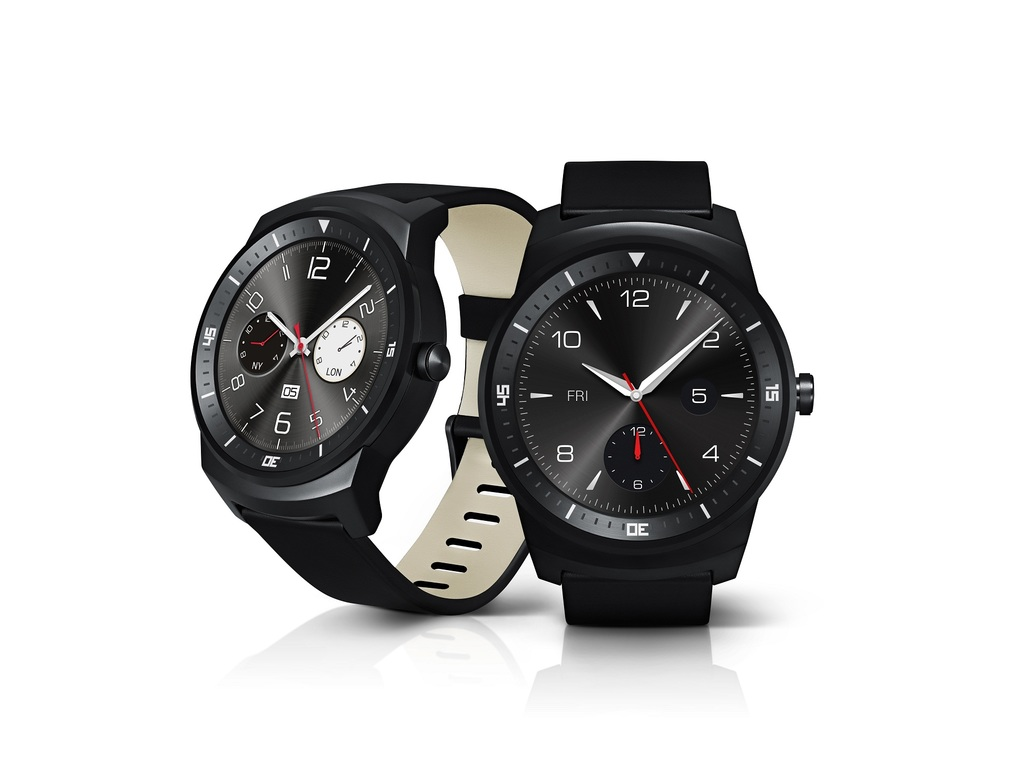watch: (476, 160, 814, 629)
